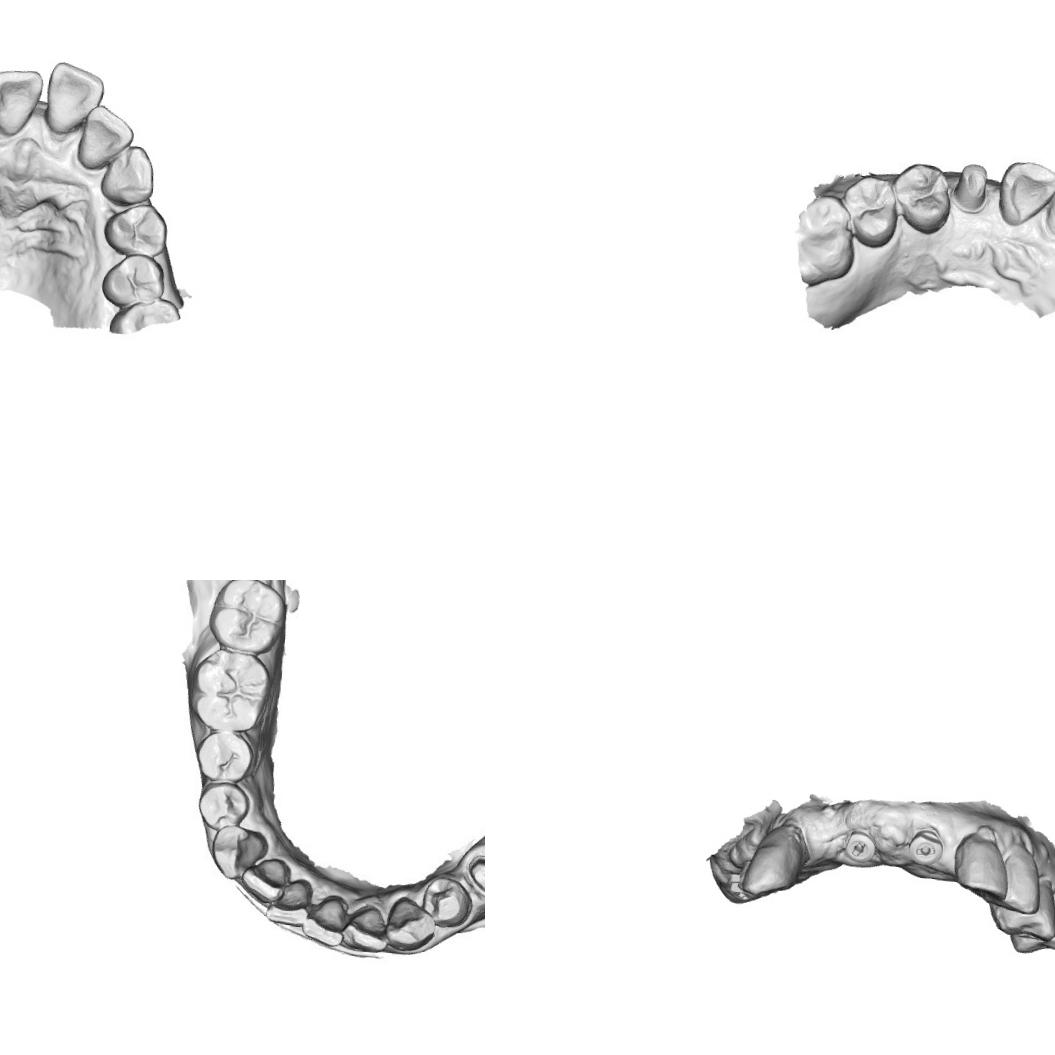abutment: (948, 157, 995, 214)
canine: (736, 822, 803, 902), (948, 831, 1014, 905), (95, 140, 156, 208), (210, 824, 264, 878), (389, 897, 437, 946)
crown: (468, 858, 485, 898)
implant_minus: (841, 826, 880, 861), (908, 827, 944, 863)
incisor: (41, 55, 108, 140), (74, 100, 138, 175), (994, 158, 1055, 230), (0, 64, 44, 139), (342, 903, 390, 953), (263, 877, 310, 924), (244, 852, 292, 897), (302, 893, 346, 941)
molar: (189, 644, 274, 734), (786, 192, 862, 290), (211, 580, 281, 652)
premolar: (840, 170, 901, 250), (891, 162, 955, 238), (96, 248, 168, 312), (100, 197, 172, 260), (194, 731, 252, 783), (196, 778, 254, 830), (420, 880, 470, 929)
